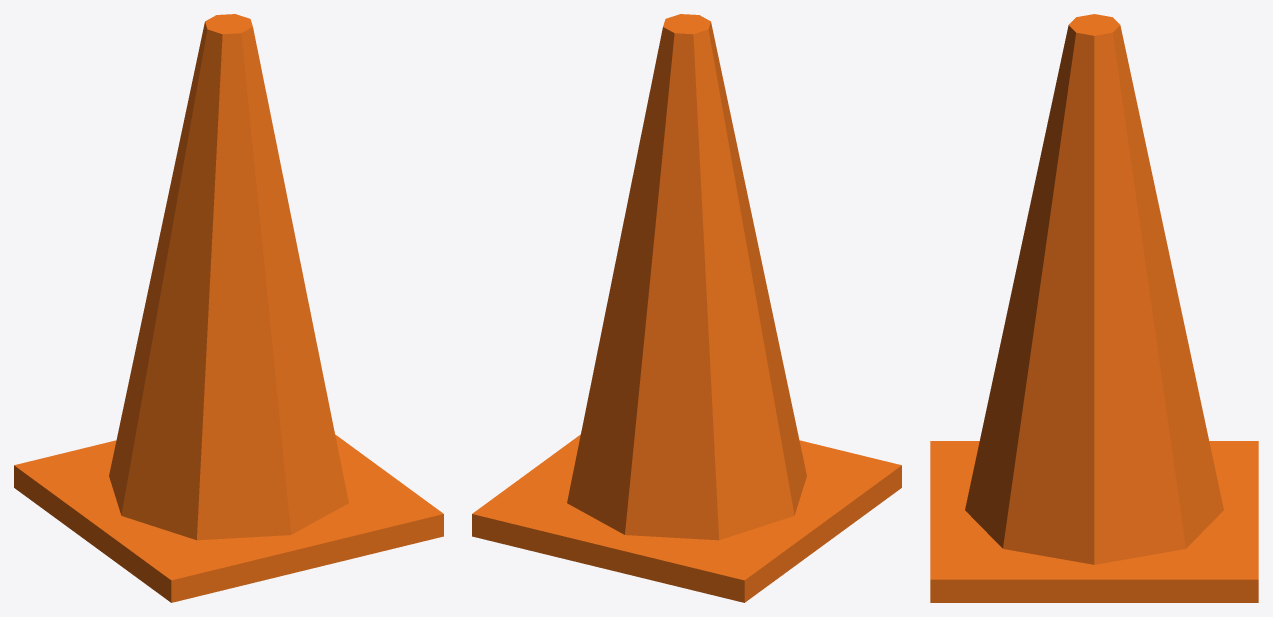
3 views of the same model, side by side, from view 1: azimuth 30°, elevation 25°; view 2: azimuth 150°, elevation 25°; view 3: azimuth 270°, elevation 25° (orthographic). The views are drawn at different scales.
Visible parts, largest first — view 1: cone; view 2: cone; view 3: cone.
Part boxes in pixels (box(x1,y1,x2,y2)): cone: box(14, 14, 443, 602); cone: box(472, 14, 901, 602); cone: box(930, 14, 1258, 602).
Size of the model in its own units: 0.38 by 0.65 by 0.38.
